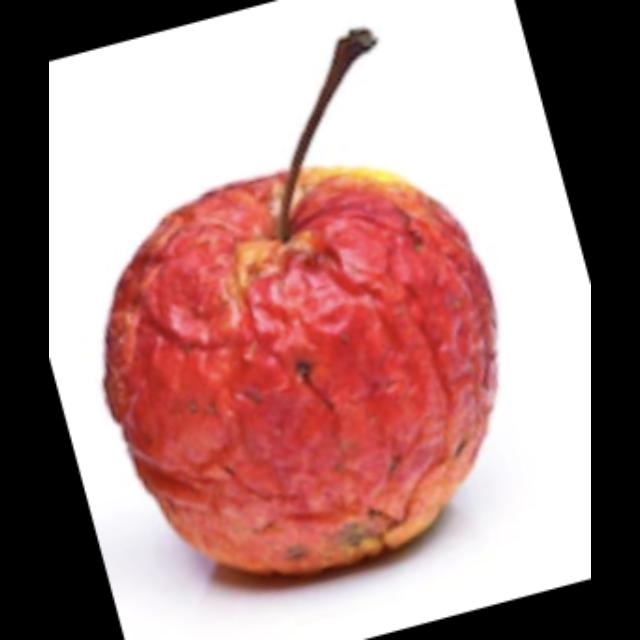Apel Tidak Segar: (96, 173, 502, 581)
